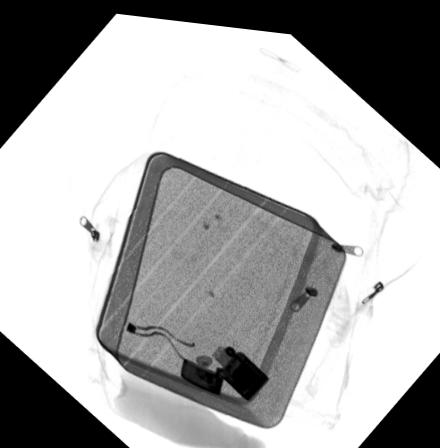Lighter: (179, 338, 268, 395)
